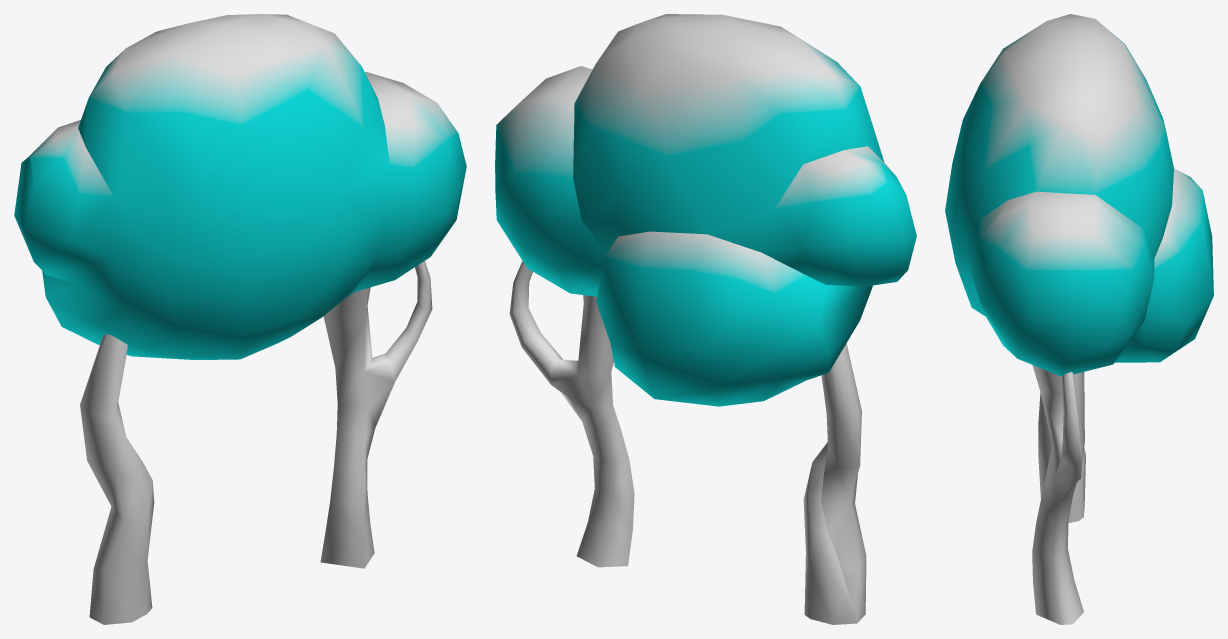
The model's file is obstacle-squiggly_bush_H2g.glb.
The picture shows the model from 3 angles, left to right: view 1: azimuth 30°, elevation 25°; view 2: azimuth 150°, elevation 25°; view 3: azimuth 270°, elevation 25°; orthographic projection. The views are drawn at different scales.
Visible parts, largest first — view 1: obstacle-squiggly_bush_H2g; view 2: obstacle-squiggly_bush_H2g; view 3: obstacle-squiggly_bush_H2g.
Part boxes in pixels (left/top/right/bottom): obstacle-squiggly_bush_H2g: left=14, top=14, right=466, bottom=624; obstacle-squiggly_bush_H2g: left=495, top=14, right=916, bottom=624; obstacle-squiggly_bush_H2g: left=945, top=14, right=1213, bottom=624.
Size of the model in its own units: 3.44 by 4.4 by 2.07.
